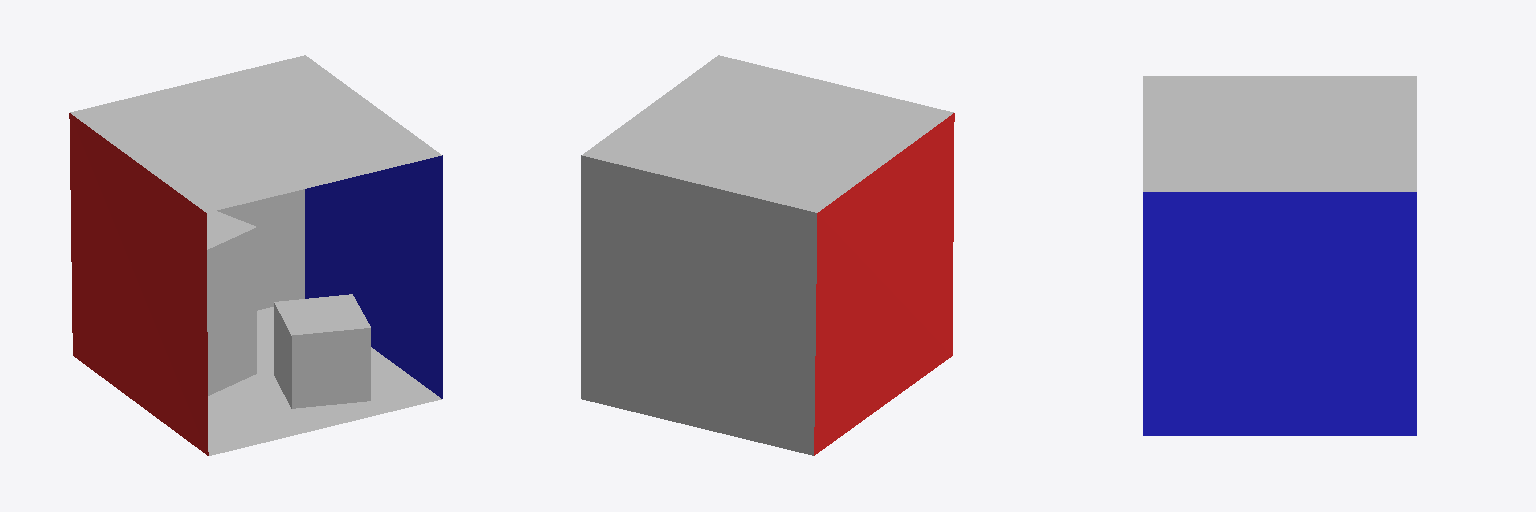
Rendered from cornellbox1.obj.
3 renders of one model, left to right at view 1: azimuth 30°, elevation 25°; view 2: azimuth 150°, elevation 25°; view 3: azimuth 270°, elevation 25°, orthographic.
Visible parts, largest first — view 1: cornellBox; view 2: cornellBox; view 3: cornellBox.
Boxes of the visible parts, <box> form: cornellBox: <box>69,55,442,455</box>; cornellBox: <box>581,55,954,455</box>; cornellBox: <box>1143,76,1416,435</box>.
Size of the model in its own units: 5.56 by 5.49 by 5.59.